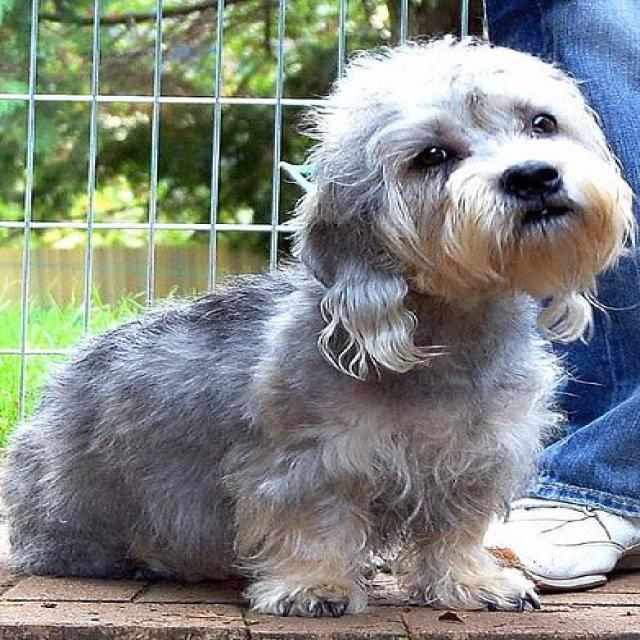dandie_dinmont: (0, 29, 637, 621)
